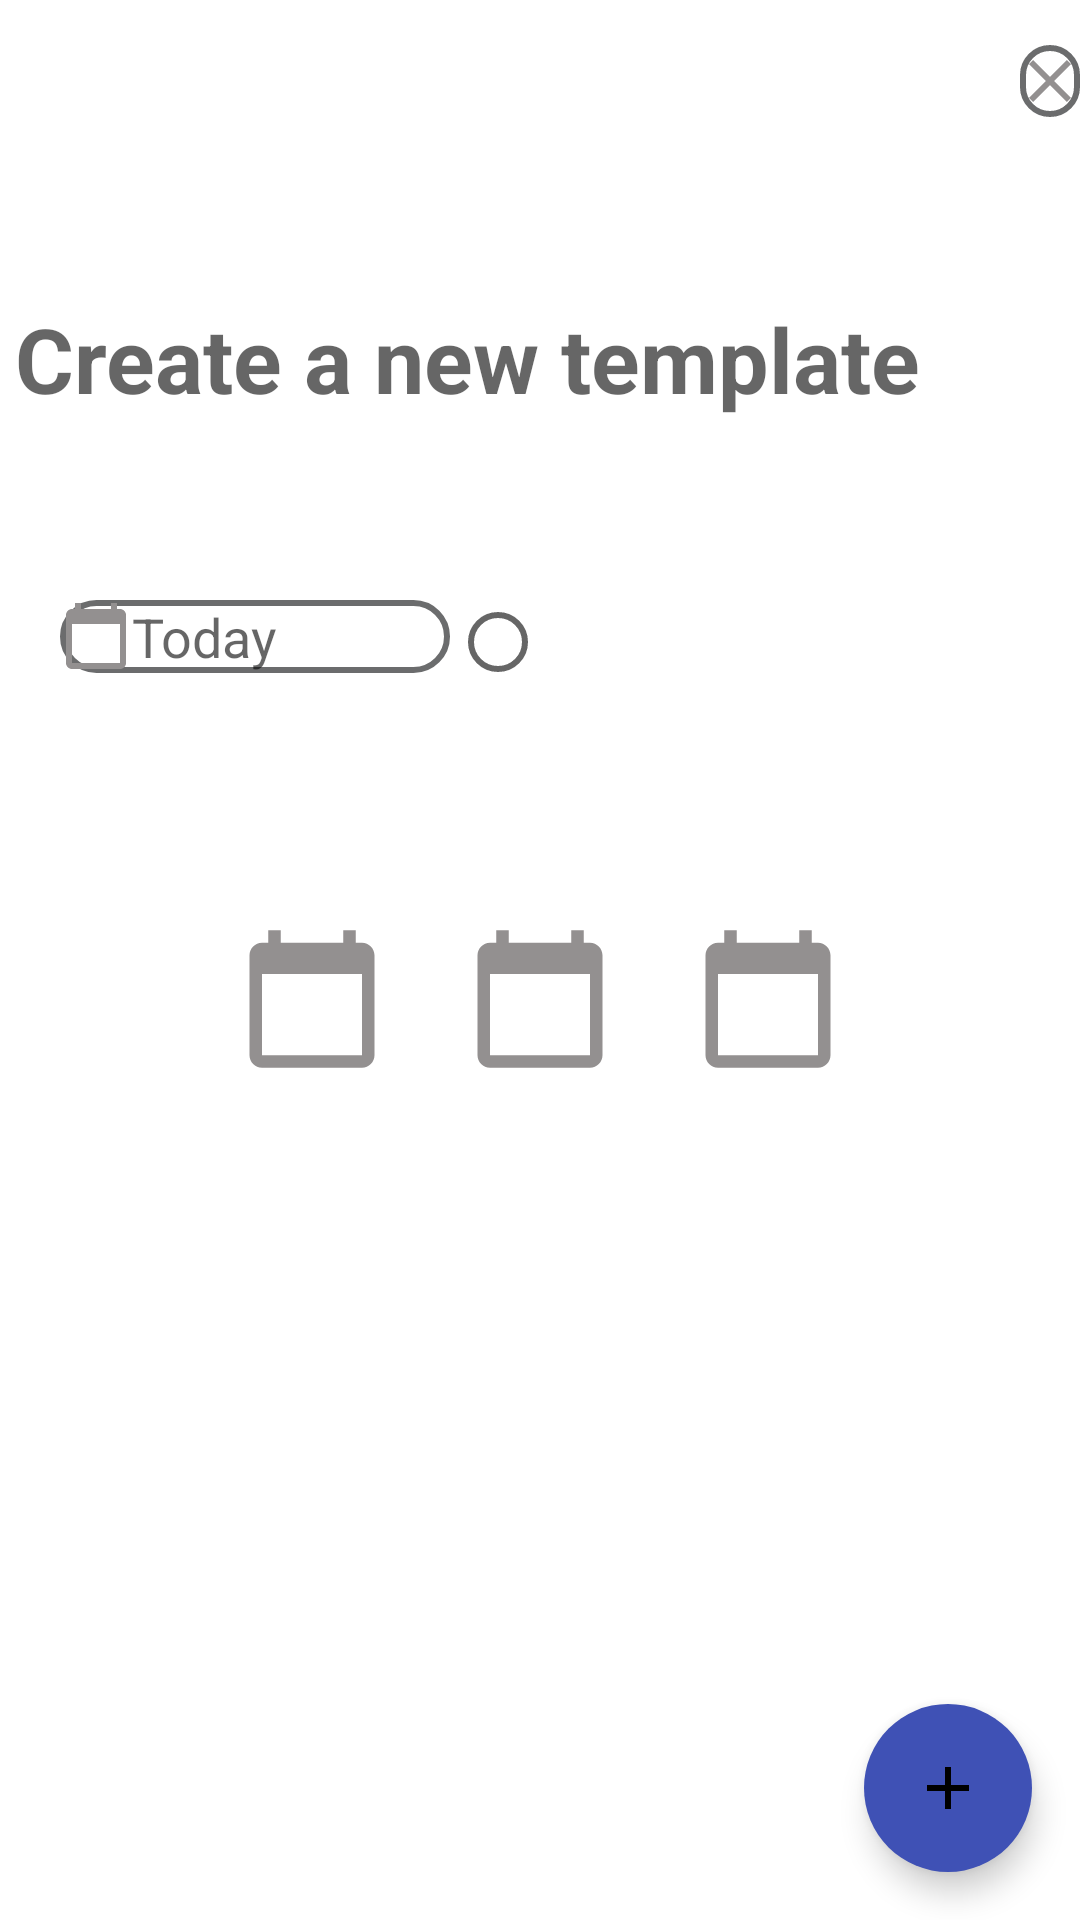

Icons on this 1080 x 1920 Android screen, each with the point to tap as [x,y]:
add: [948,1788]
calendary: [312,999], [540,999], [768,999]
close: [1050,81]
